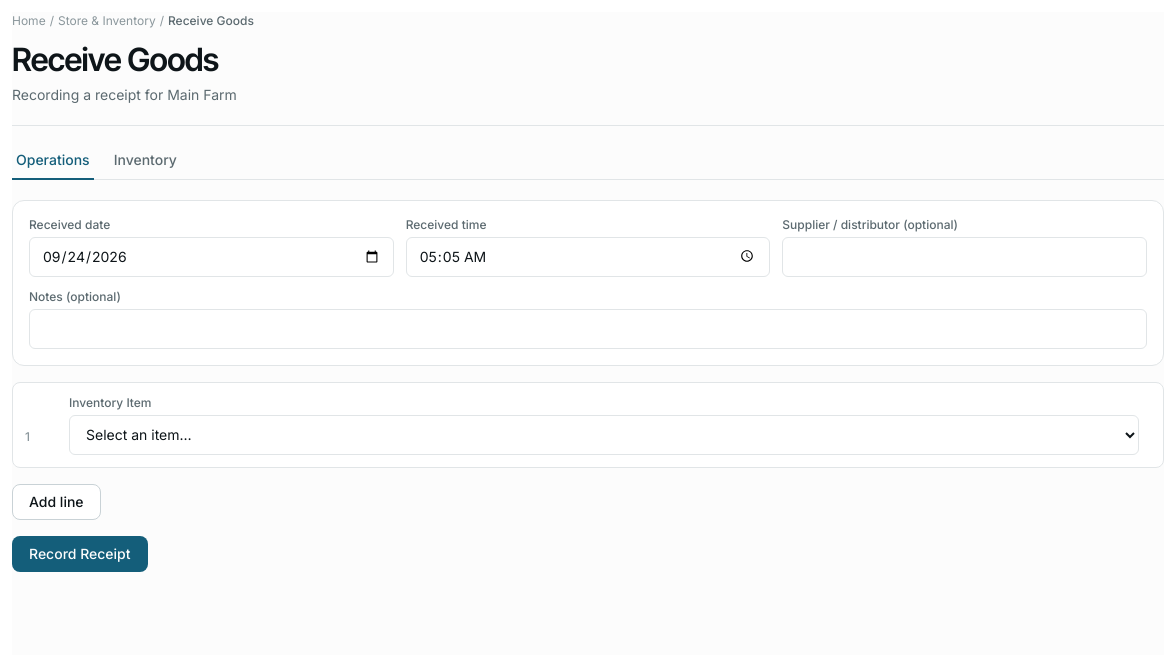
Test: ReceiveGoodsPage › keeps manufacturer/lot/expiry fields collapsed behind 'Lot details' until expanded, for a lot-tracked item only
Select "Calcium Nitrate" in the dropdown labelled "Inventory Item" at (604, 435), box [69,415,1139,455]
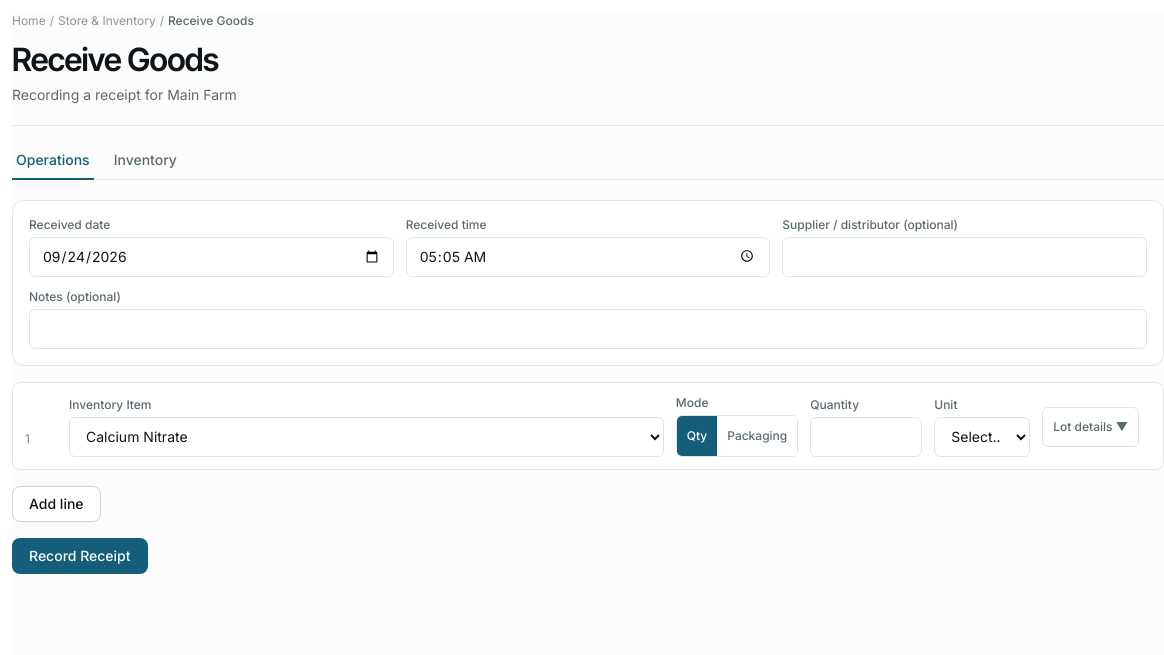
Expected: the field labelled "Manufacturer" is not shown
Expected: the button "Lot details ▼" is shown
Click the button "Lot details ▼".
click(1091, 427)  # box [1042,407,1139,447]
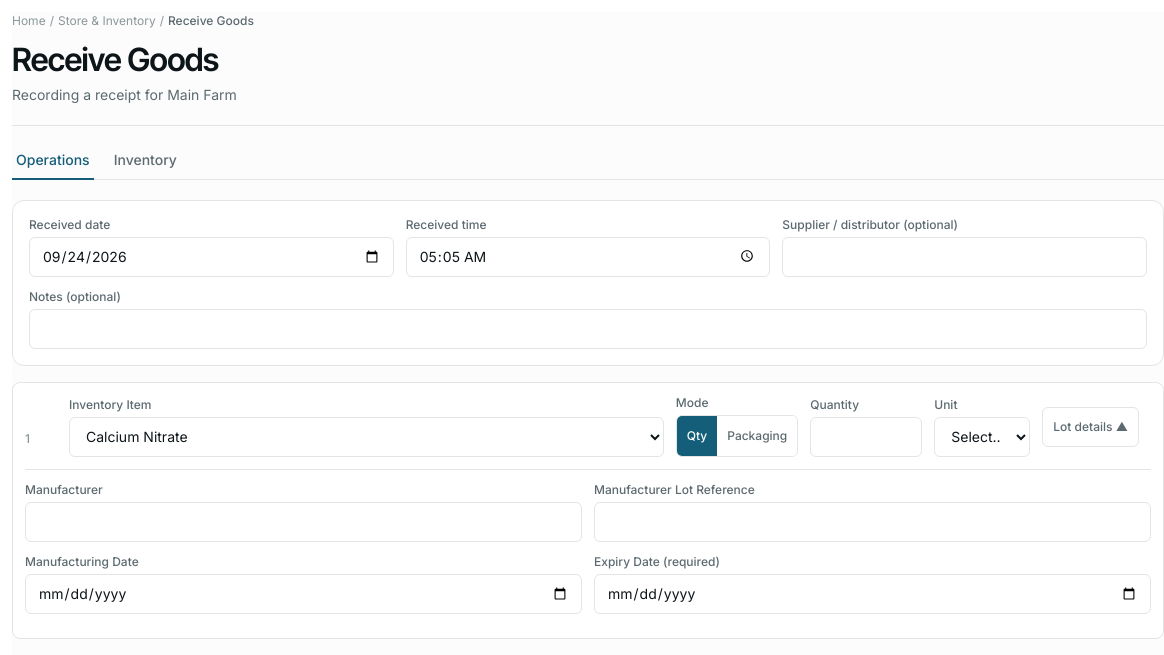
Expected: the field labelled "Manufacturer" is shown, [25,502,582,542]
Expected: the date field labelled "Expiry Date (required)" is shown, [594,574,1151,614]
Click the button "Packaging".
click(757, 436)  # box [717,416,797,456]
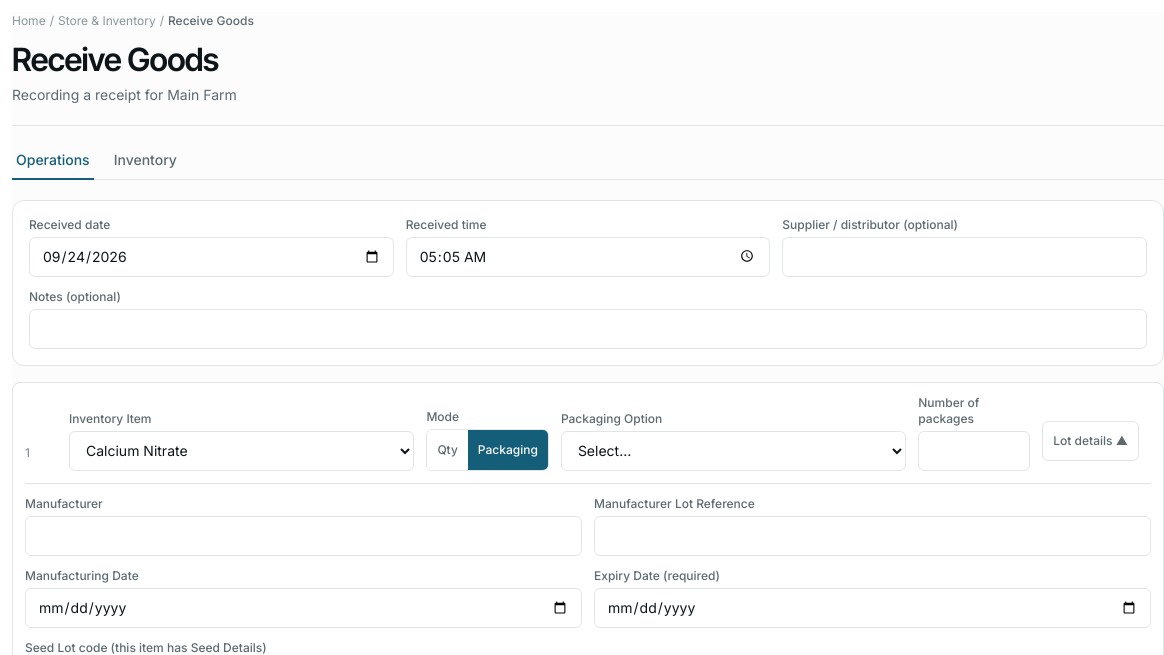
Select "25kg Bag" in the dropdown labelled "Packaging Option" at (734, 451), box [561,431,906,471]
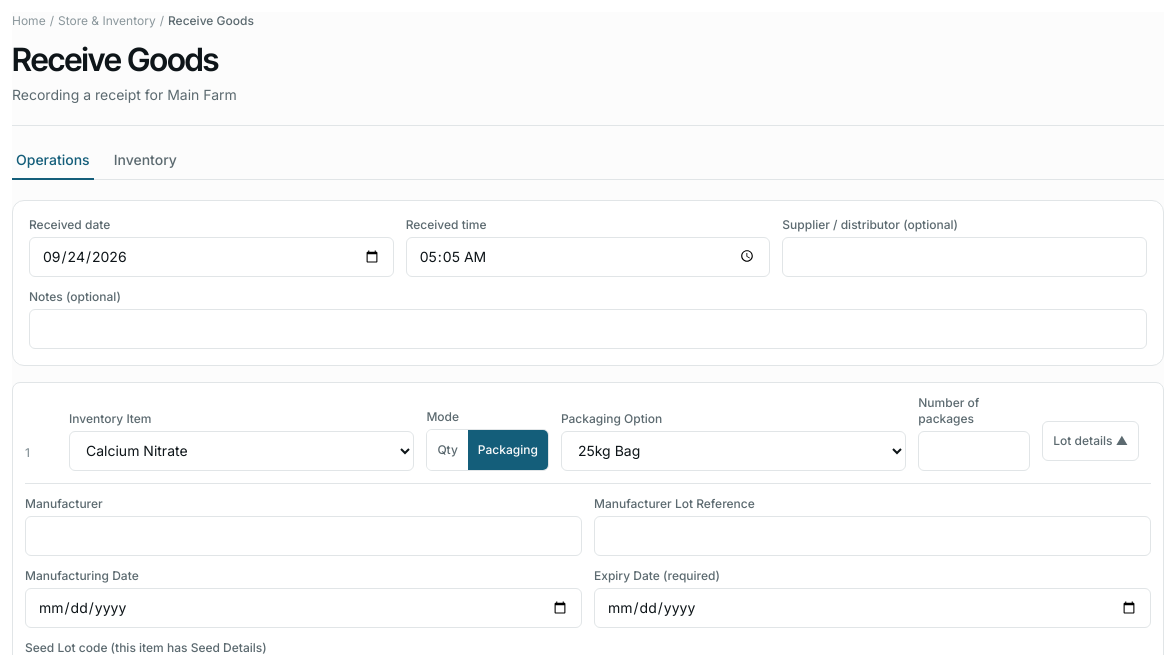
Type "4" into the number field labelled "Number of packages".
click(974, 451); type("4")  # box [918,431,1030,471]
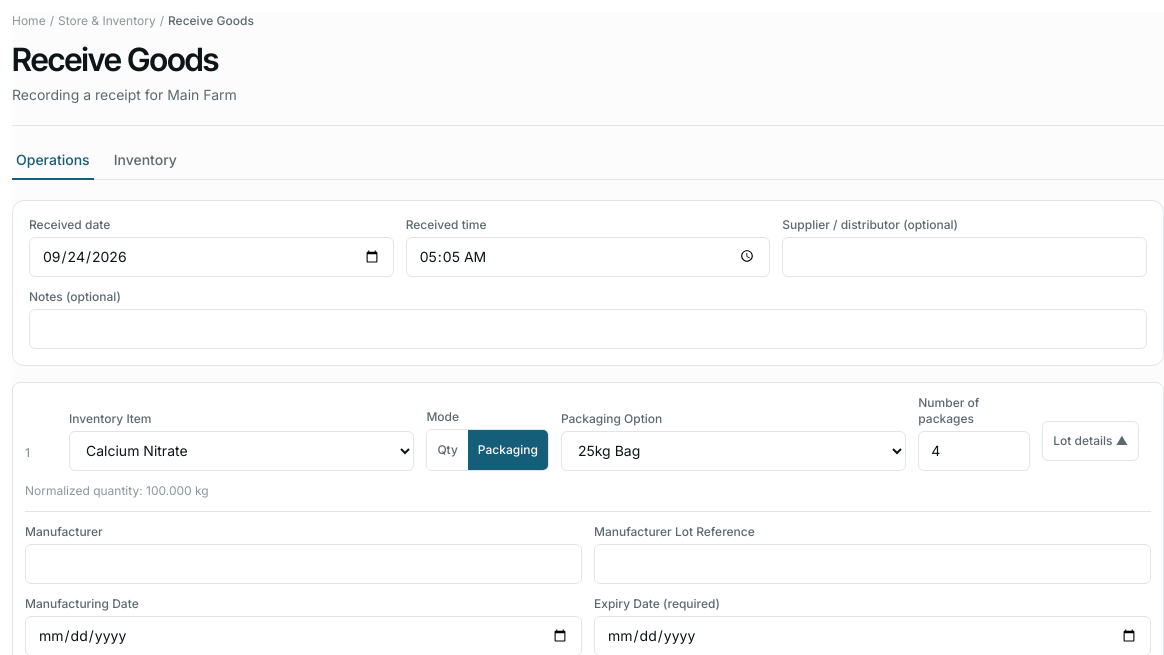
Expected: the text "Normalized quantity: 100.000 kg" is shown, [25,483,209,498]
